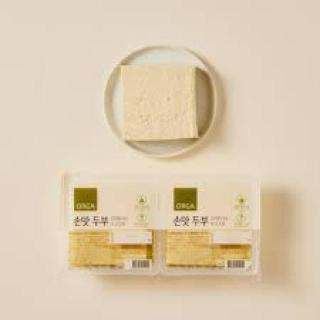Tahu: (107, 57, 213, 150)
